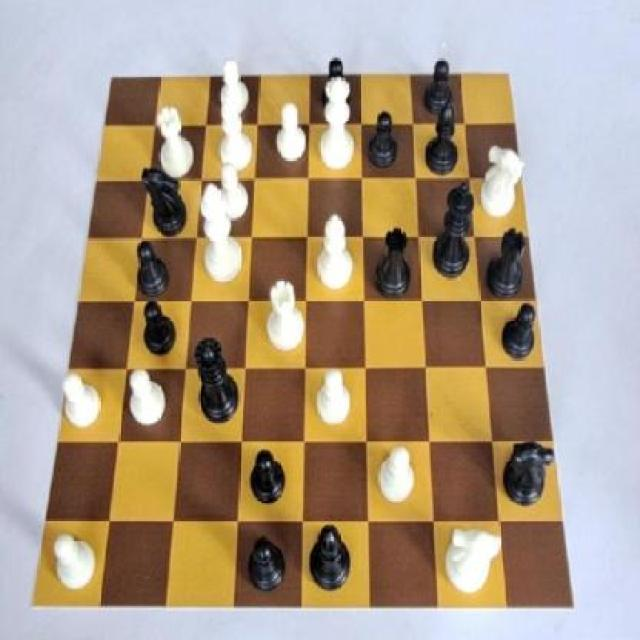bishop: (302, 514, 359, 610), (422, 88, 466, 178)
black-bishop: (423, 178, 482, 284)
black-king: (503, 434, 566, 518), (138, 160, 194, 242)
black-knight: (242, 526, 292, 596), (130, 239, 178, 306), (246, 443, 291, 511), (500, 294, 542, 364), (314, 51, 355, 118), (137, 297, 178, 363), (365, 103, 403, 172), (419, 49, 456, 119)
black-pawn: (188, 334, 242, 433)
black-queen: (371, 214, 420, 305), (480, 222, 532, 298)
black-rook: (310, 211, 362, 297), (209, 88, 257, 176)
white-bishop: (200, 171, 245, 286)
white-king: (440, 514, 502, 597), (474, 137, 528, 230)
white-knight: (49, 520, 103, 604), (372, 434, 422, 507), (57, 366, 108, 431), (128, 364, 174, 436), (268, 97, 312, 172), (312, 363, 356, 435), (212, 156, 252, 232), (212, 52, 253, 121)
white-pawn: (309, 72, 361, 176)
white-queen: (260, 270, 311, 362), (151, 95, 196, 184)
